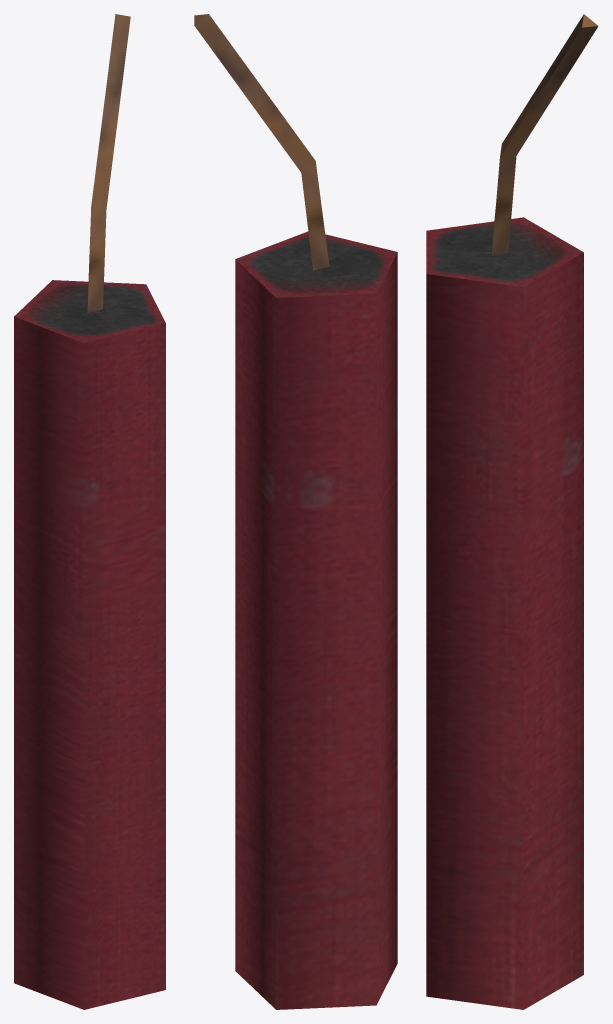
The model's file is TNT.fbx.
3 views of the same model, side by side, from view 1: azimuth 30°, elevation 25°; view 2: azimuth 150°, elevation 25°; view 3: azimuth 270°, elevation 25° (orthographic). The views are drawn at different scales.
Visible parts, largest first — view 1: TNT; view 2: TNT; view 3: TNT.
Boxes of the visible parts, x1=… form: TNT: x1=14, y1=14, x2=165, y2=1009; TNT: x1=194, y1=14, x2=397, y2=1009; TNT: x1=426, y1=14, x2=598, y2=1009.
Bounding box in the file's own units: 8.14 × 49.65 × 7.79.
